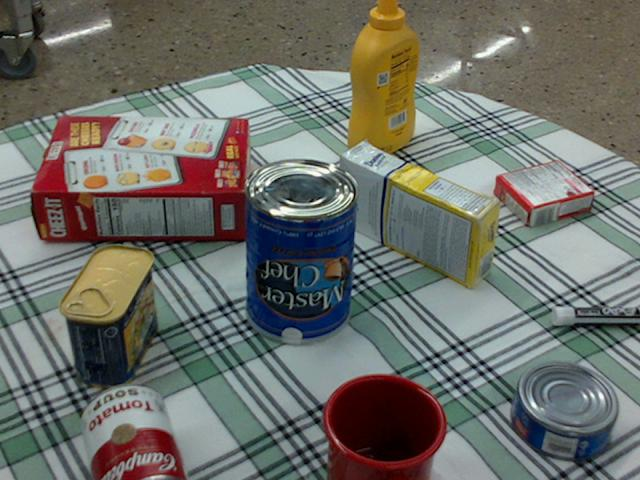cracker_box: (31, 117, 246, 239)
gelatin_box: (493, 160, 593, 227)
large_marker: (552, 305, 639, 324)
master_chef_can: (243, 158, 358, 343)
mug: (318, 374, 444, 479)
mustard_bottle: (346, 0, 417, 156)
potted_meat_can: (59, 244, 155, 388)
sugar_box: (337, 143, 500, 288)
tomato_soup_can: (81, 384, 185, 479)
tuna_fish_can: (511, 362, 618, 460)
